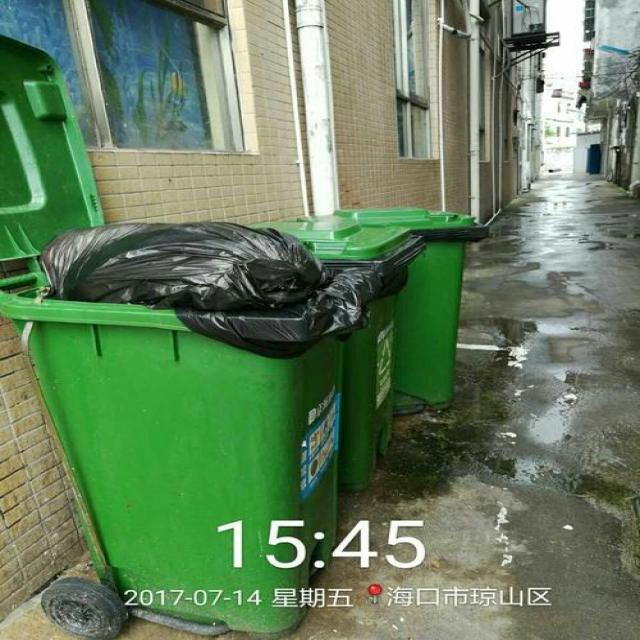garbage_bin: (248, 221, 425, 489), (333, 206, 486, 413)
overflow: (0, 219, 347, 630)
